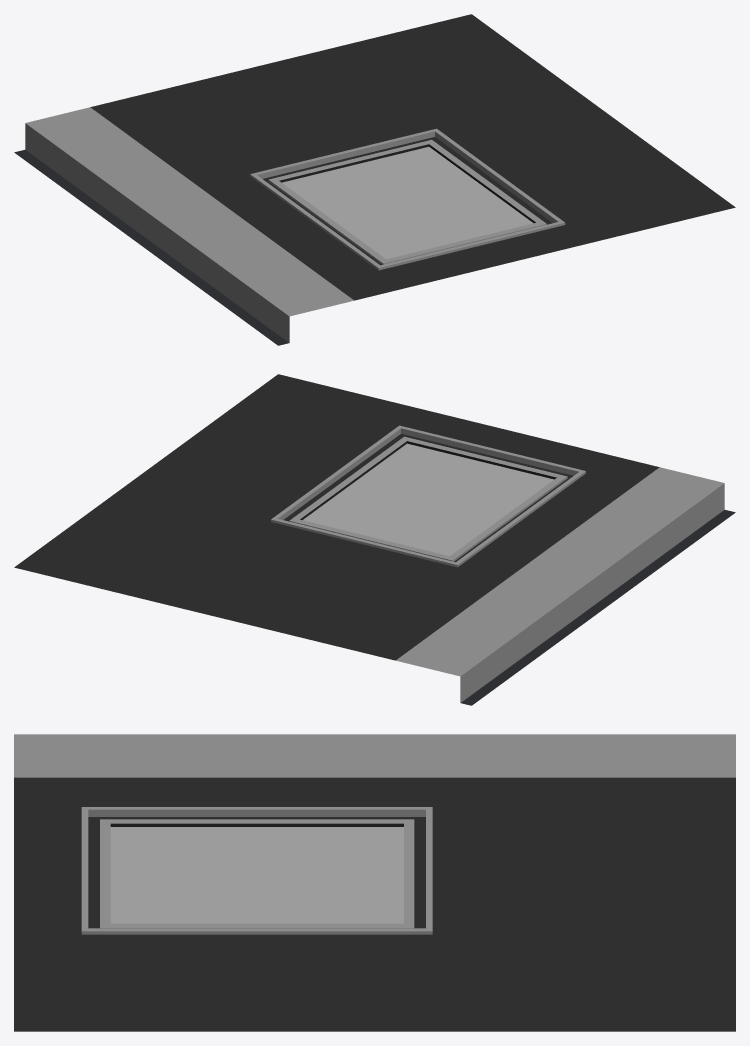
File: Sidewalk_02_Drain.FBX
3 renders of one model, top to bottom at view 1: azimuth 30°, elevation 25°; view 2: azimuth 150°, elevation 25°; view 3: azimuth 270°, elevation 25°, orthographic. The views are drawn at different scales.
Parts seen in each view (by area): view 1: Sidewalk_02_Drain_LOD0; view 2: Sidewalk_02_Drain_LOD0; view 3: Sidewalk_02_Drain_LOD0.
Part boxes in pixels (box(x1,y1,x2,y2)): Sidewalk_02_Drain_LOD0: box(14, 14, 735, 345); Sidewalk_02_Drain_LOD0: box(14, 374, 735, 705); Sidewalk_02_Drain_LOD0: box(14, 734, 735, 1031).
Size of what is drawn, in the model's own units: 180 by 10.89 by 180.
